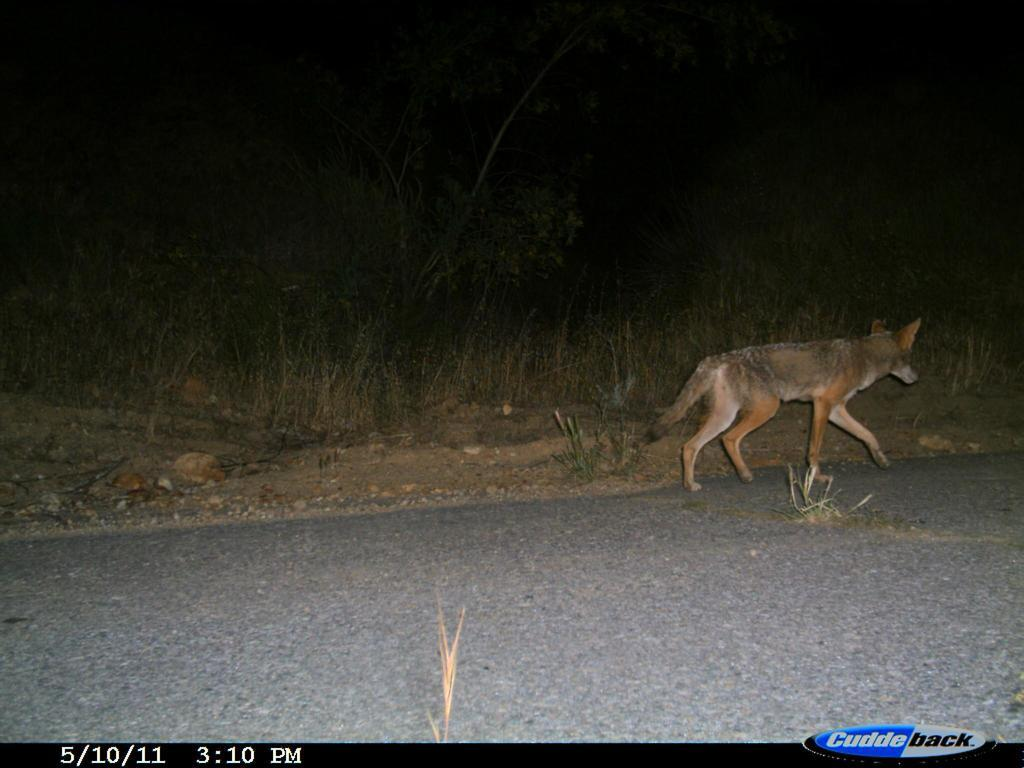coyote: (634, 312, 932, 498)
